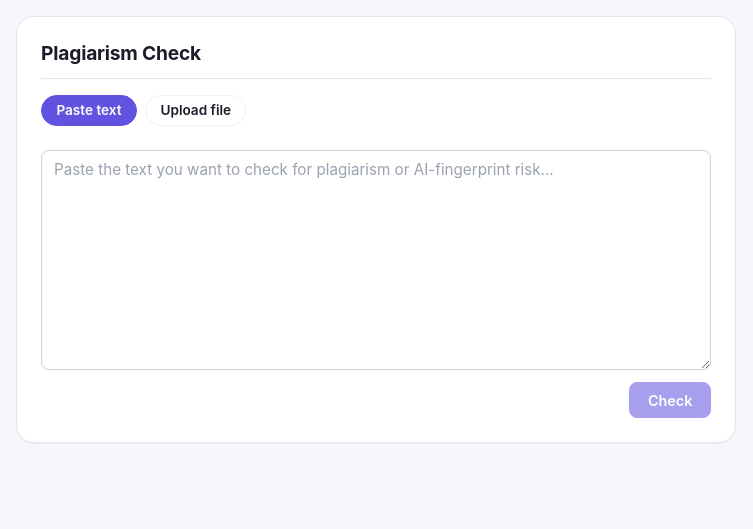
Test case: PlagiarismCheckPanel › shows an error message and does not crash when the check fails
Replace the text in the text box labelled "Paste the text you want to check for plagiarism or AI-fingerprint risk..." with "Text that will fail" at {"x": 376, "y": 260}, box 41,150 -> 711,370
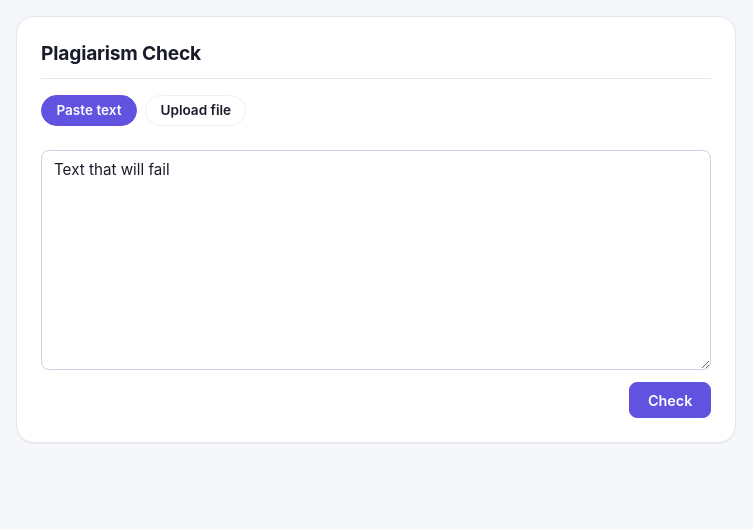
Click the button "Check" at {"x": 670, "y": 400}, box 629,382 -> 711,418
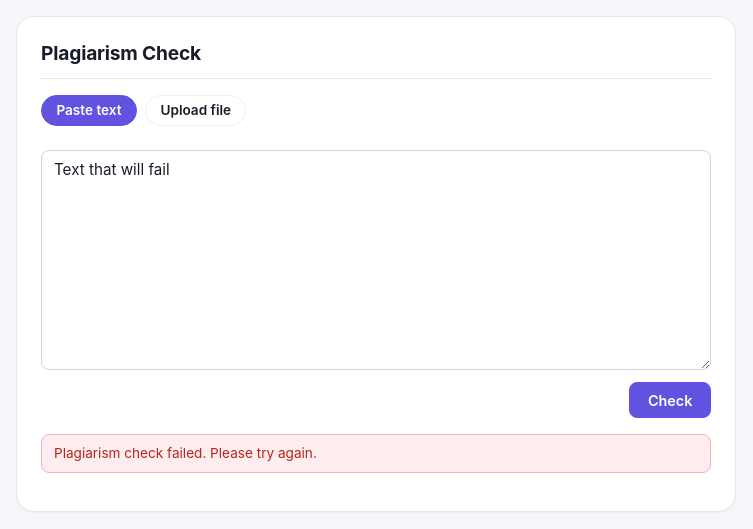
Expected: the text "Plagiarism check failed. Please try again." is shown, 41,434 -> 711,473
